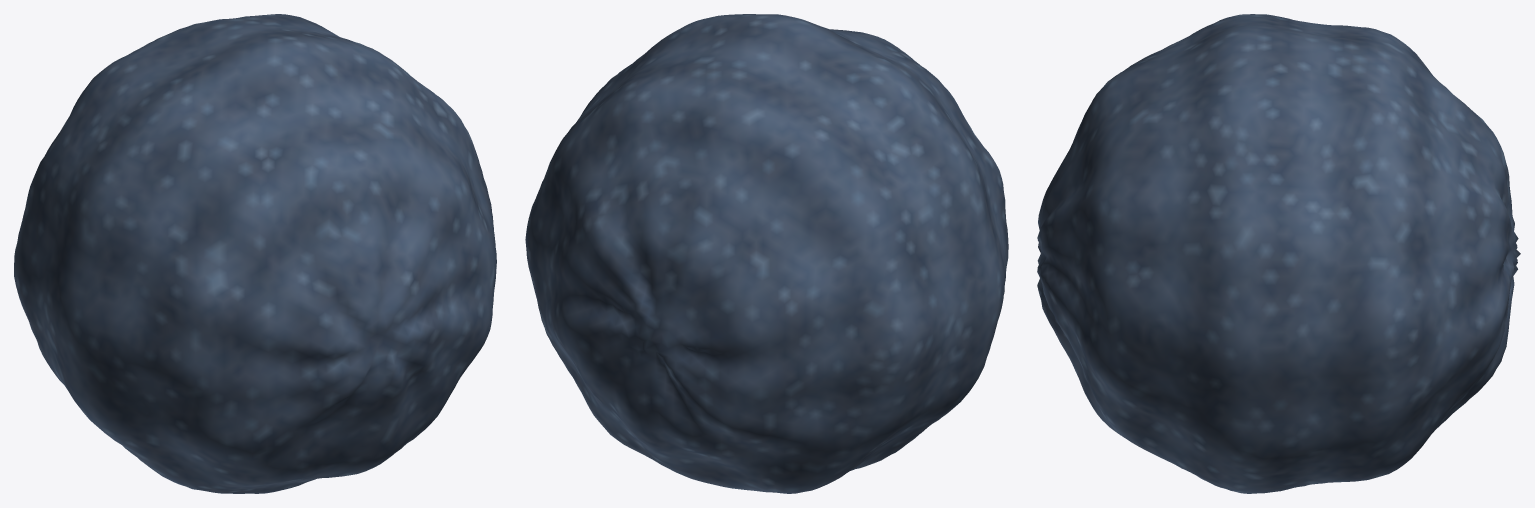
Rendered from planet_9.glb.
3 views of the same model, side by side, from view 1: azimuth 30°, elevation 25°; view 2: azimuth 150°, elevation 25°; view 3: azimuth 270°, elevation 25° (orthographic).
Visible parts, largest first — view 1: world; view 2: world; view 3: world.
Boxes of the visible parts, x1,y1,x2,y2 form: world: (14, 14, 496, 493); world: (525, 14, 1008, 493); world: (1037, 14, 1520, 493).
Size of the model in its own units: 2.03 by 2.05 by 2.04.
